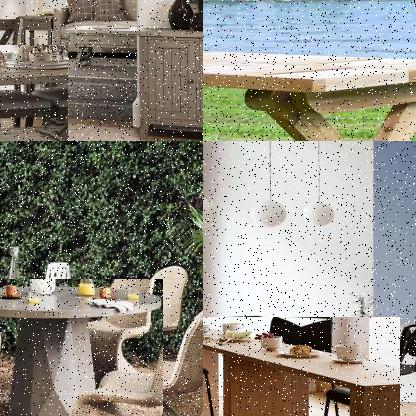table: (0, 279, 164, 415), (203, 43, 415, 140), (203, 317, 400, 415), (0, 45, 68, 140)
